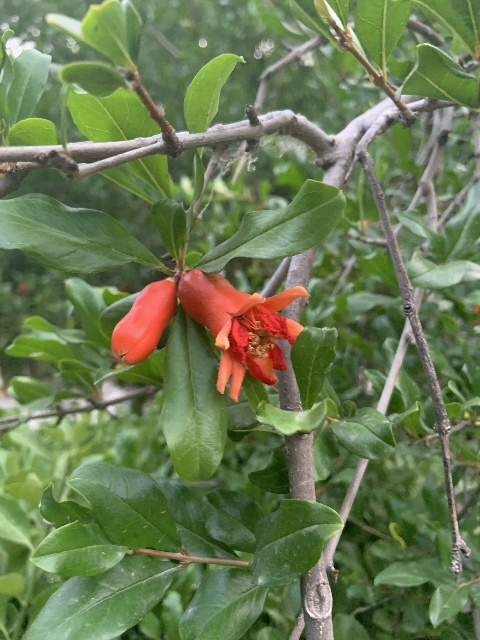bud: (111, 278, 177, 365)
flower: (179, 269, 308, 401)
